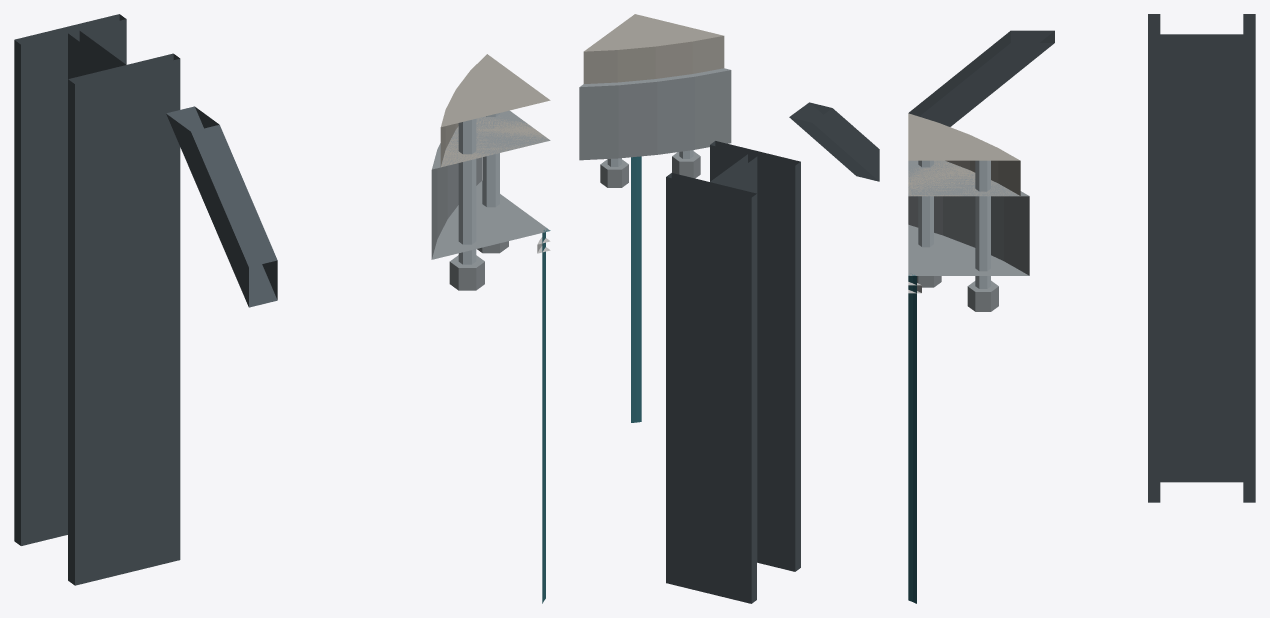
The model's file is cell_9.obj.
3 renders of one model, left to right at view 1: azimuth 30°, elevation 25°; view 2: azimuth 150°, elevation 25°; view 3: azimuth 270°, elevation 25°, orthographic. The views are drawn at different scales.
Bounding box in the file's own units: 0.71 × 1 × 0.71.
